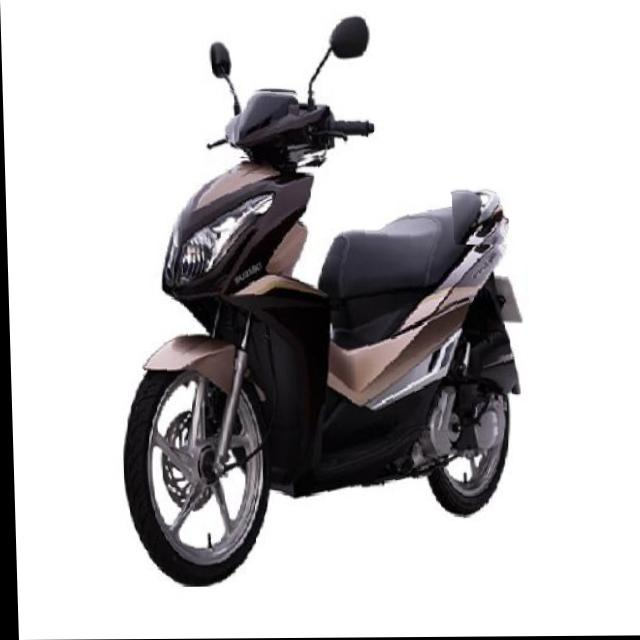All: (101, 83, 529, 587)
Head: (199, 89, 376, 159)
Tail: (449, 183, 508, 246)
